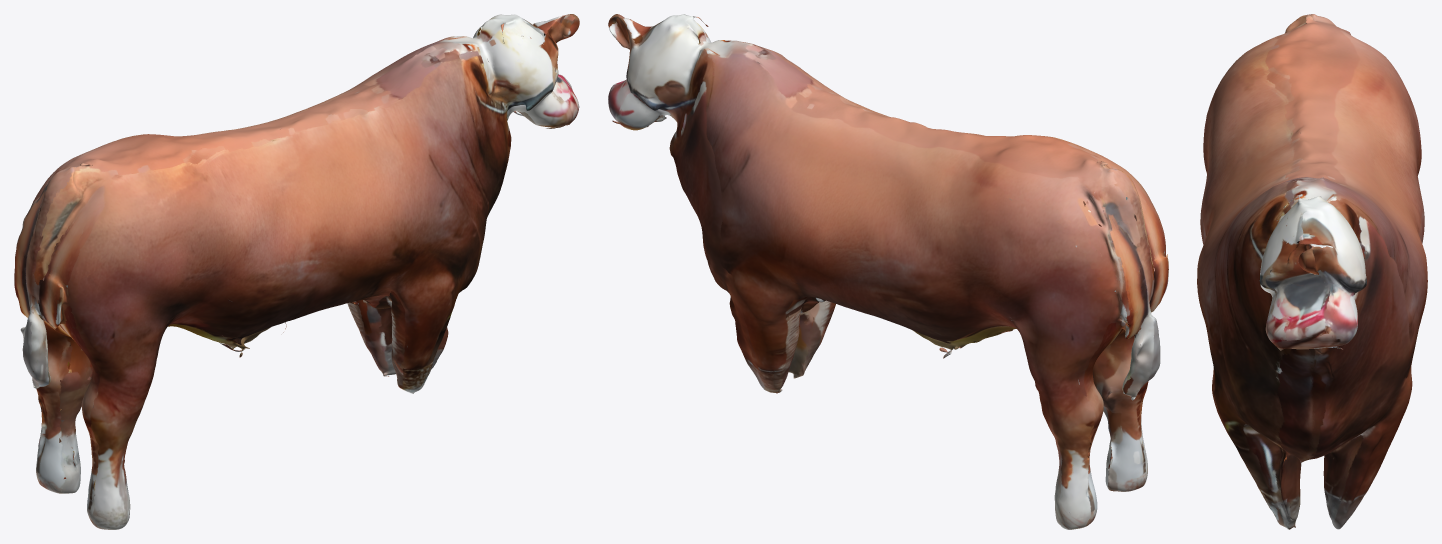
The model's file is adulto.glb.
The picture shows the model from 3 angles, left to right: view 1: azimuth 30°, elevation 25°; view 2: azimuth 150°, elevation 25°; view 3: azimuth 270°, elevation 25°; orthographic projection. The views are drawn at different scales.
Visible parts, largest first — view 1: mesh; view 2: mesh; view 3: mesh.
Part boxes in pixels (box(x1,y1,x2,y2)): mesh: box(14, 14, 579, 529); mesh: box(608, 14, 1168, 529); mesh: box(1197, 14, 1427, 529).
Bounding box in the file's own units: 1.71 × 1.14 × 0.5538.
Materials: 1 (1 with a texture image).
